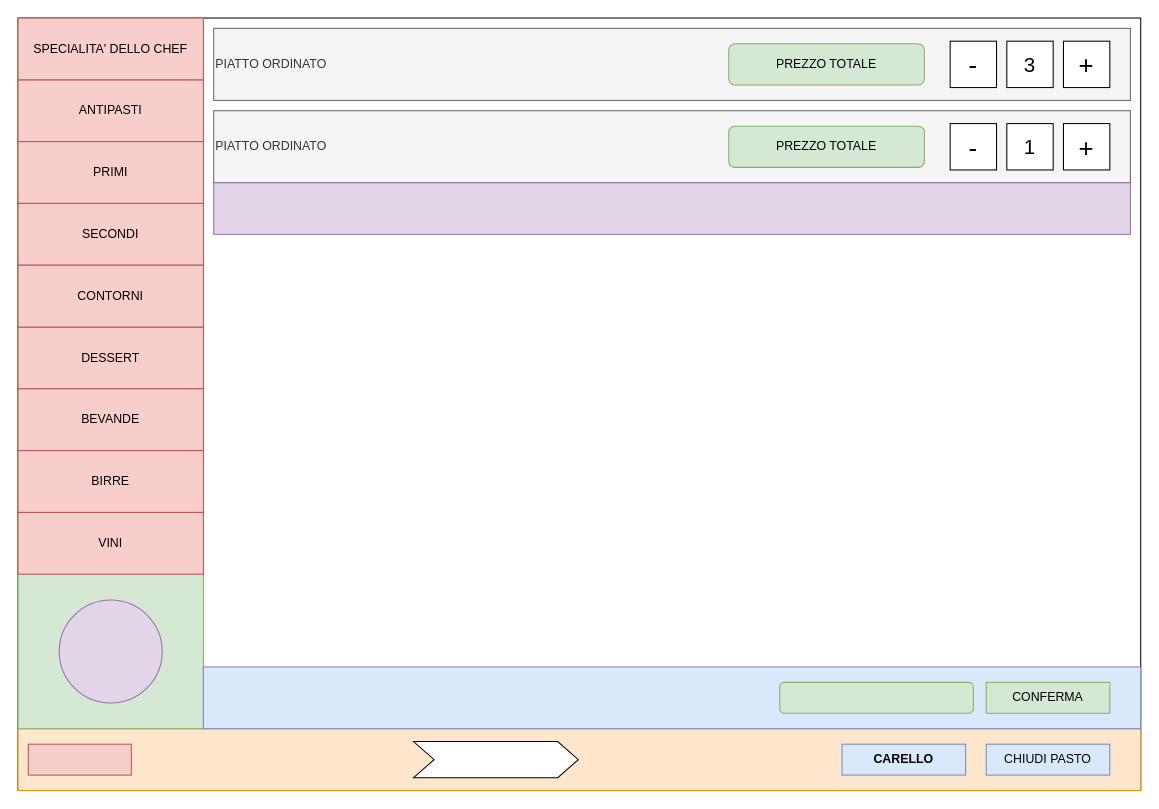
Image size: 1159x809. Some labels were removed from this diagram. The shapes that lost their labels are listed below. From the top down, each one's box as (x1, y1, x2, y2) in pixels, then its label:
(213, 182, 1130, 234): QUI VERRANNO SEGNALATI GLI ALLERGENI
(58, 599, 162, 703): CAMERIERE
(779, 681, 973, 713): SOMMA TOTALE
(27, 743, 131, 775): LOGOUT
(413, 741, 578, 778): NOME TAVOLO
